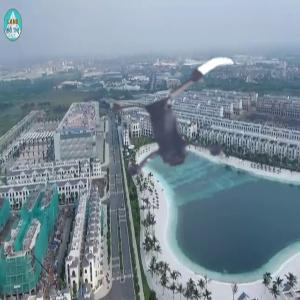drone: (95, 43, 275, 223)
